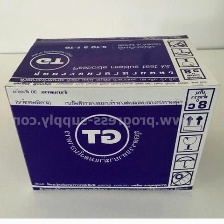book: (2, 31, 223, 196)
